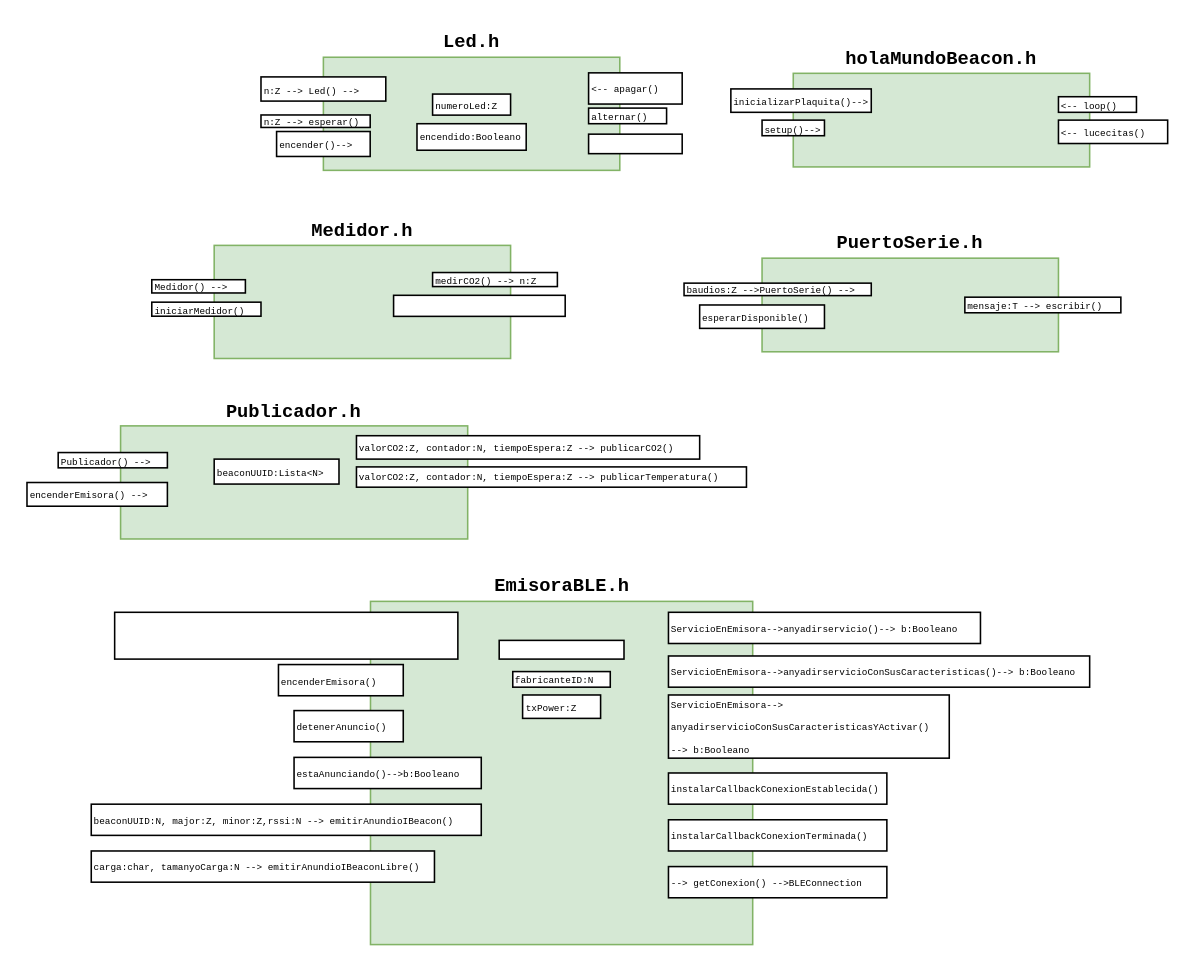
This 1197x973 diagram has some shape labels left out. The centre of each missing label's shape, as x and y in pixels:
"medirTemperatura() --> n:Z" belongs at (478,305).
"n:Z -->brillar()" belongs at (634,143).
"nombreEmisora:char" belongs at (561,649).
"nombreEmisora:char, fabricanteID:N, txPower:N --> EmisoraBLE() -->" belongs at (285,635).
